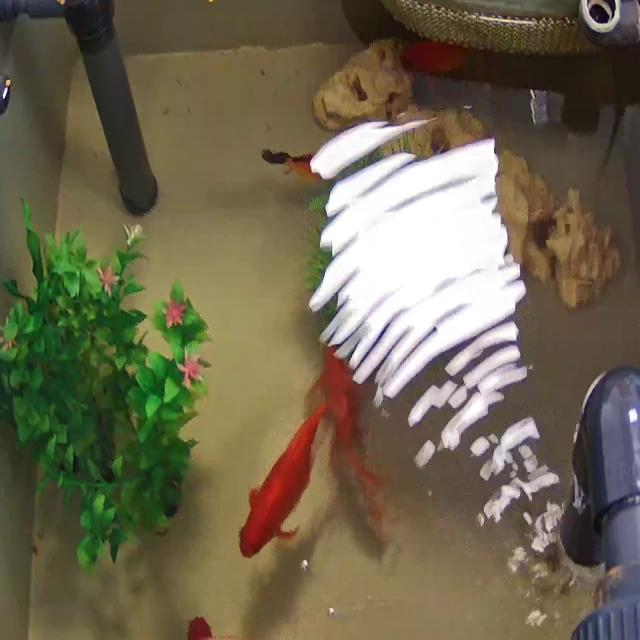fish: (239, 402, 326, 559), (320, 342, 370, 514), (403, 40, 471, 74), (264, 145, 323, 179)
